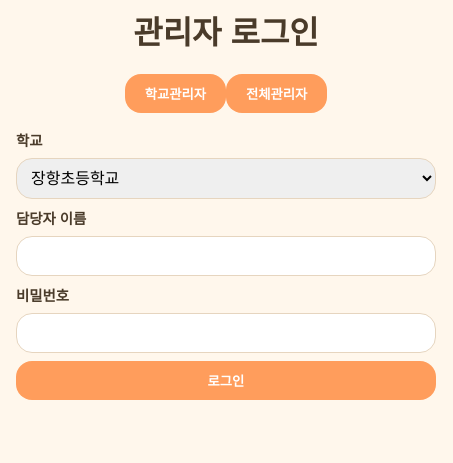
Test: AdminLoginPage › 학교관리자: 틀린 비밀번호면 에러를 보여준다
Select "송림초등학교" in the dropdown labelled "학교" at [226, 179], box [16,158,436,199]
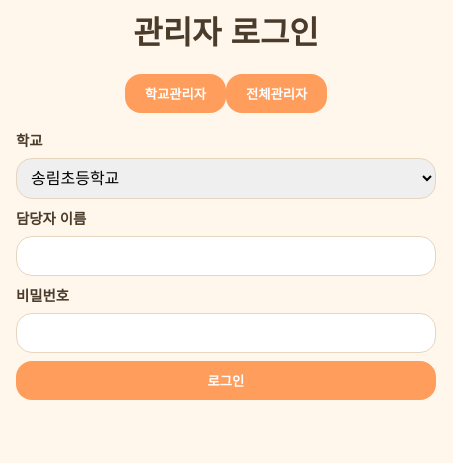
Type "wrong" into the password field labelled "비밀번호" at [226, 333], box [16,313,436,353]
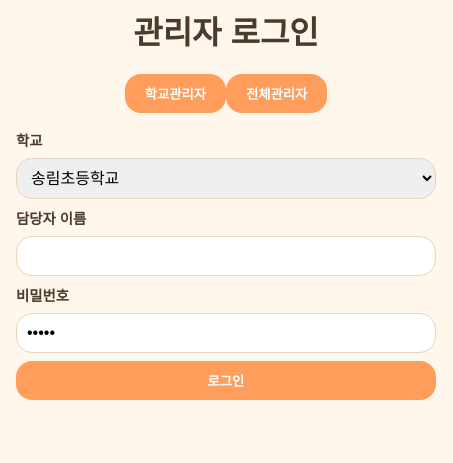
Click the button "로그인" at [226, 381], box [16,361,436,400]
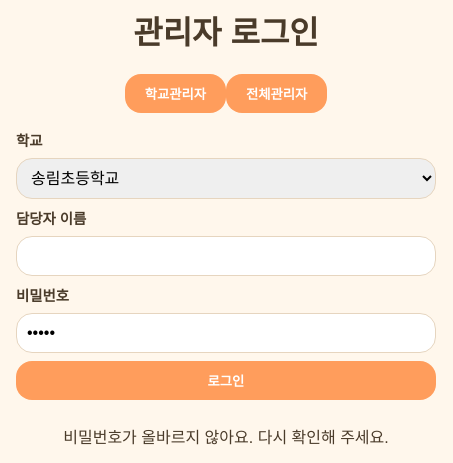
Result: the message shows "비밀번호가 올바르지 않아요" at [63,429,389,446]
